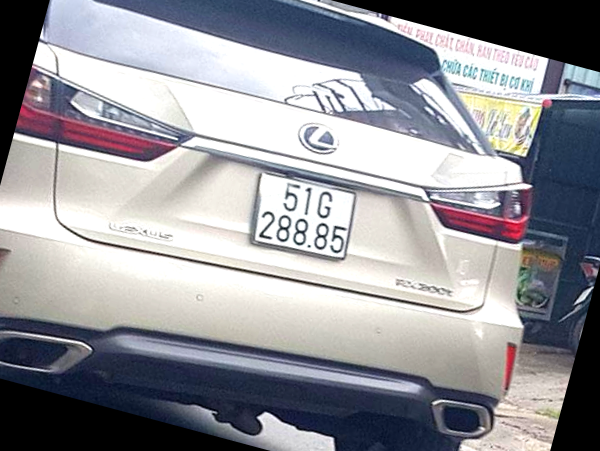lisence: (249, 172, 354, 261)
